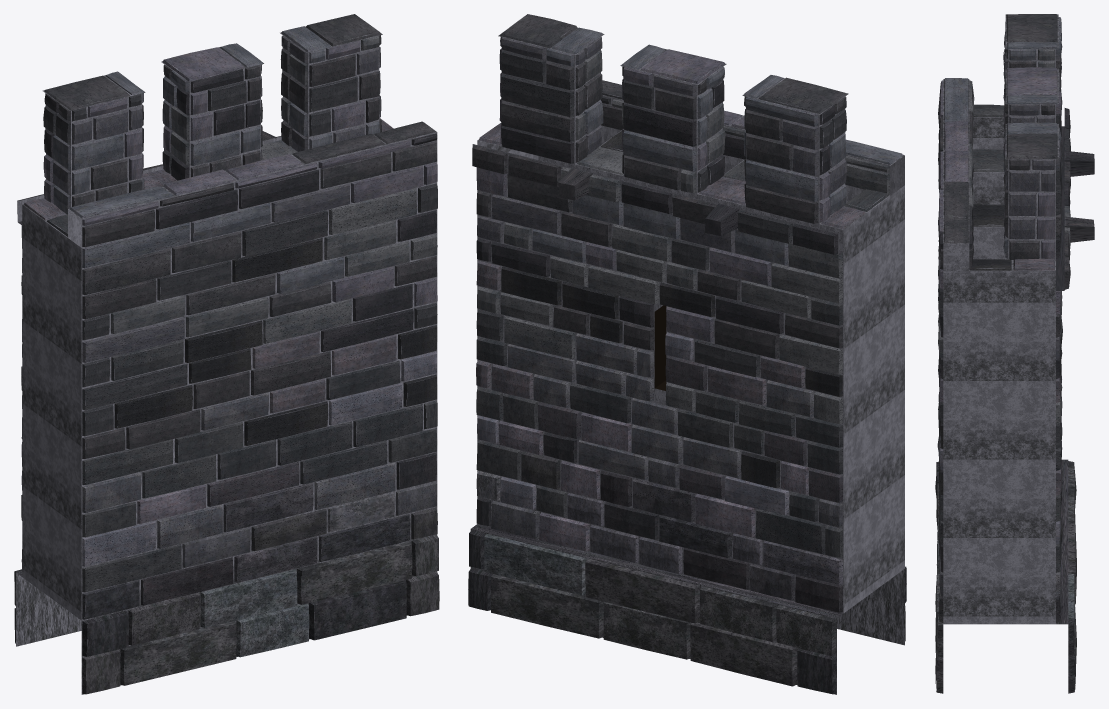
The model's file is fort_wall.glb.
3 views of the same model, side by side, from view 1: azimuth 30°, elevation 25°; view 2: azimuth 150°, elevation 25°; view 3: azimuth 270°, elevation 25° (orthographic). The views are drawn at different scales.
Visible parts, largest first — view 1: fort_wall; view 2: fort_wall; view 3: fort_wall.
Part boxes in pixels (bbox=[...]): fort_wall: bbox=[14, 14, 439, 694]; fort_wall: bbox=[468, 14, 906, 694]; fort_wall: bbox=[935, 14, 1094, 693].
Bounding box in the file's own units: 4.5 × 6.75 × 1.84.
3 materials, 3 textured.
